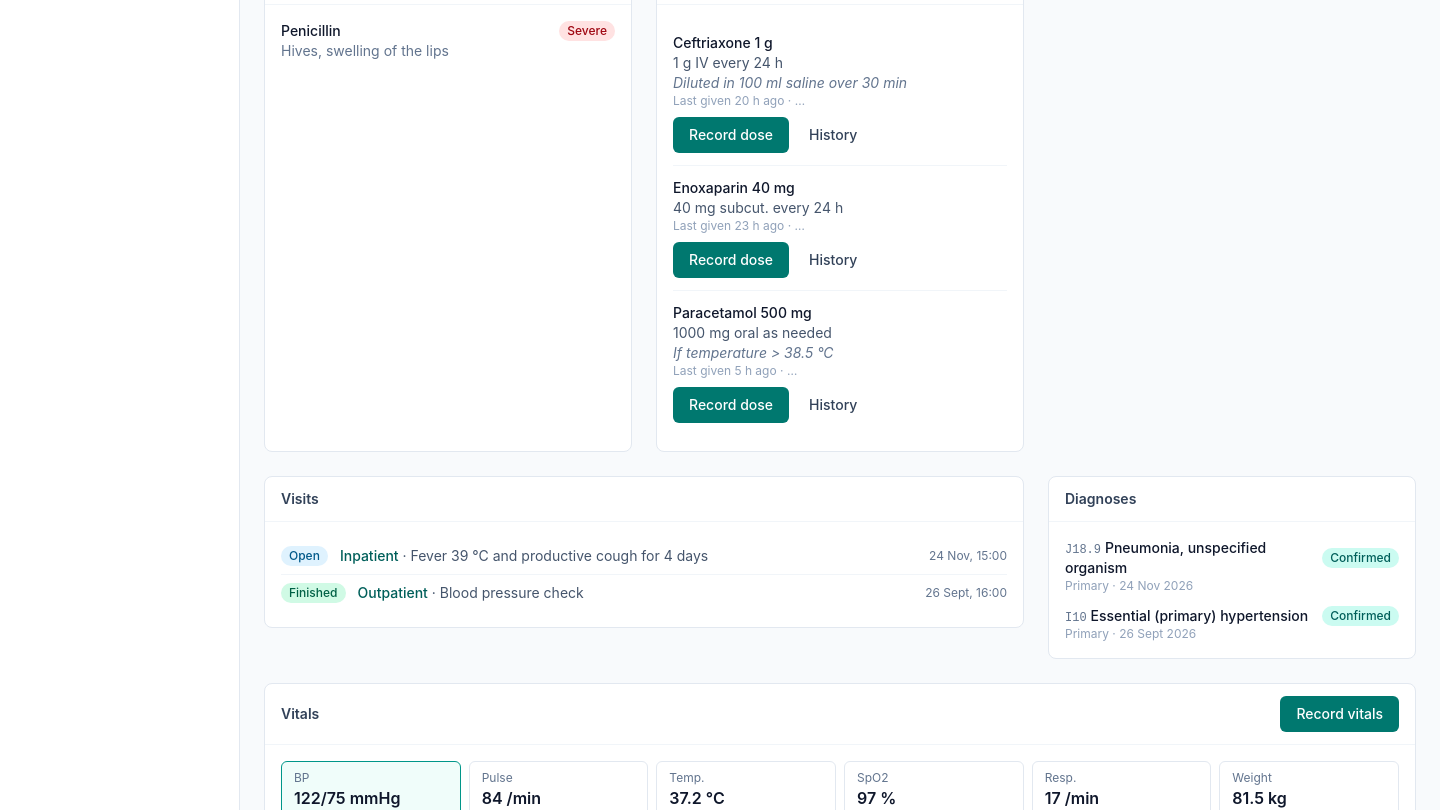
Test: nurse: recording doses › records a dose, and it shows up in the history
Later steps or results of the test are not shown.
(page scrolled)
Click the button "Record dose" below "Paracetamol". click: [731, 405]
box: [673,387,789,423]
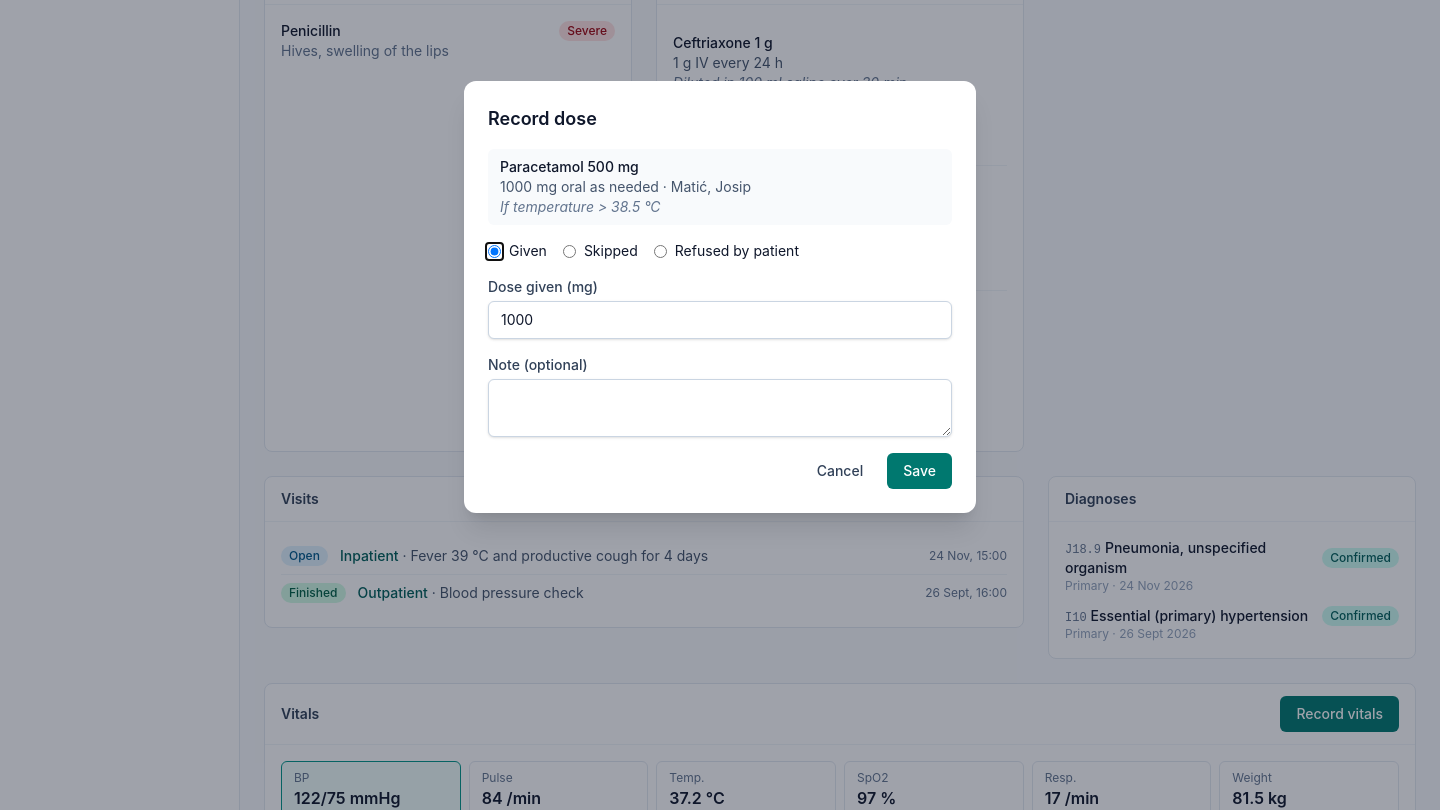
Click the button "Save". click: [920, 471]
box: [887,453,952,489]
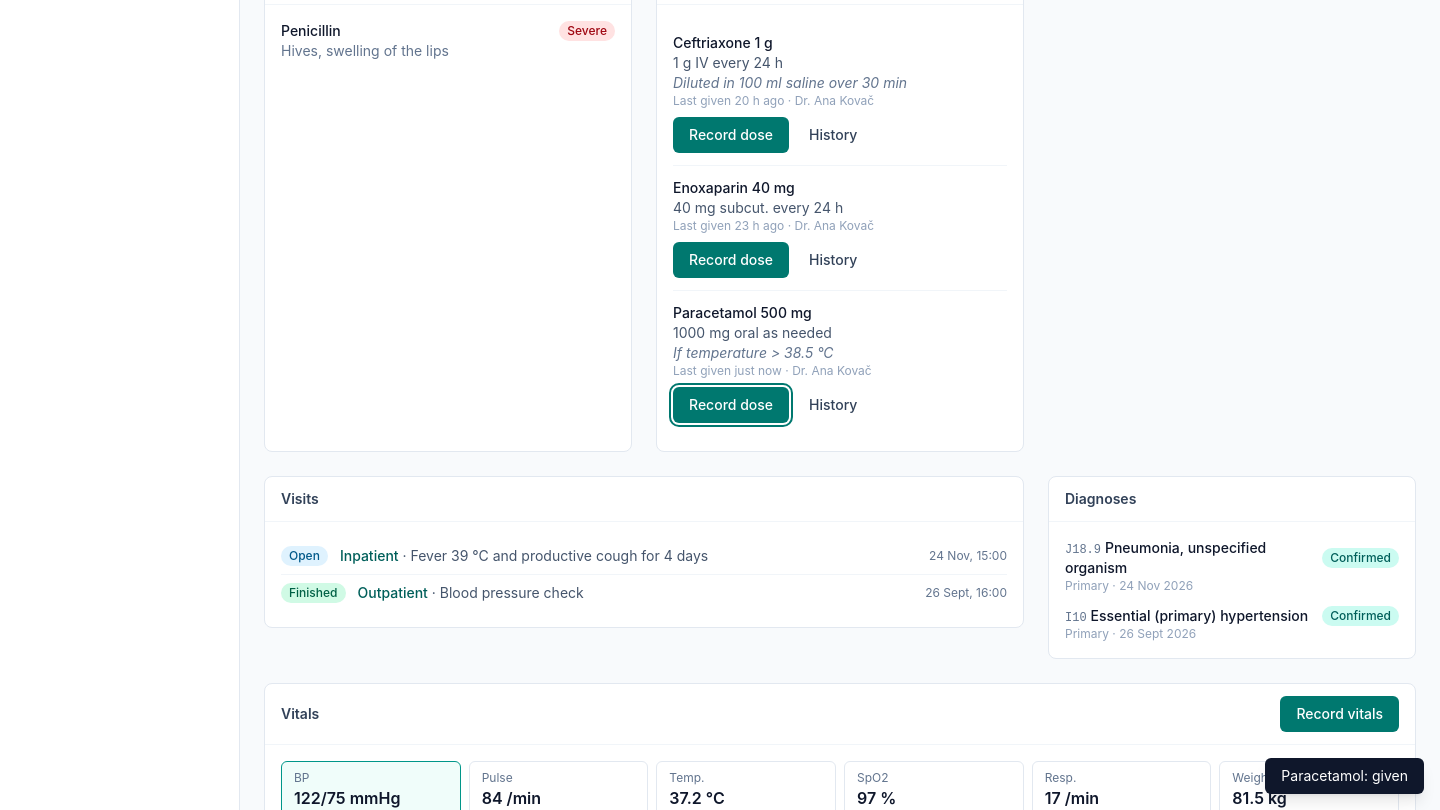
expect the text "Paracetamol: given" is shown: met, box [1265,758,1424,794]
